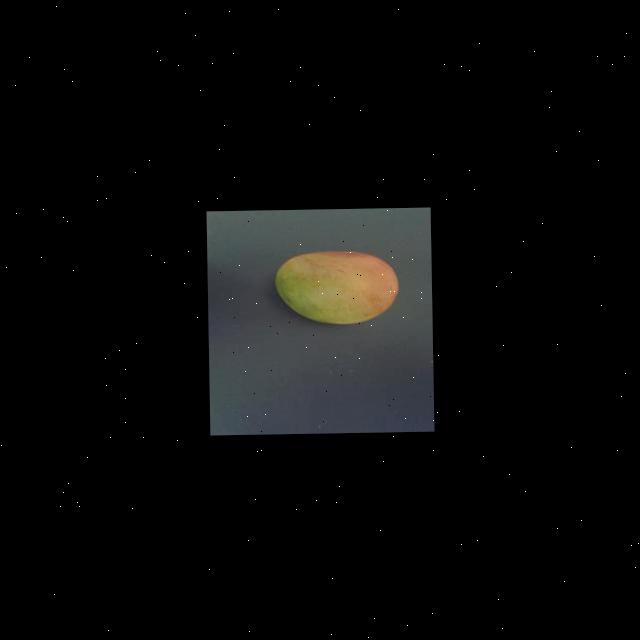Mango: (274, 248, 400, 326)
